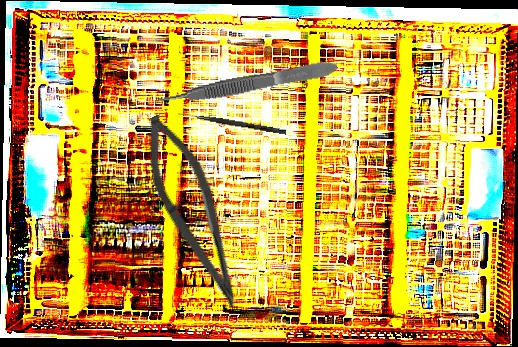Hook Surgical: (177, 111, 287, 135)
Micro Scissor: (125, 107, 264, 315)
Tissue Forceps: (153, 58, 340, 109)
